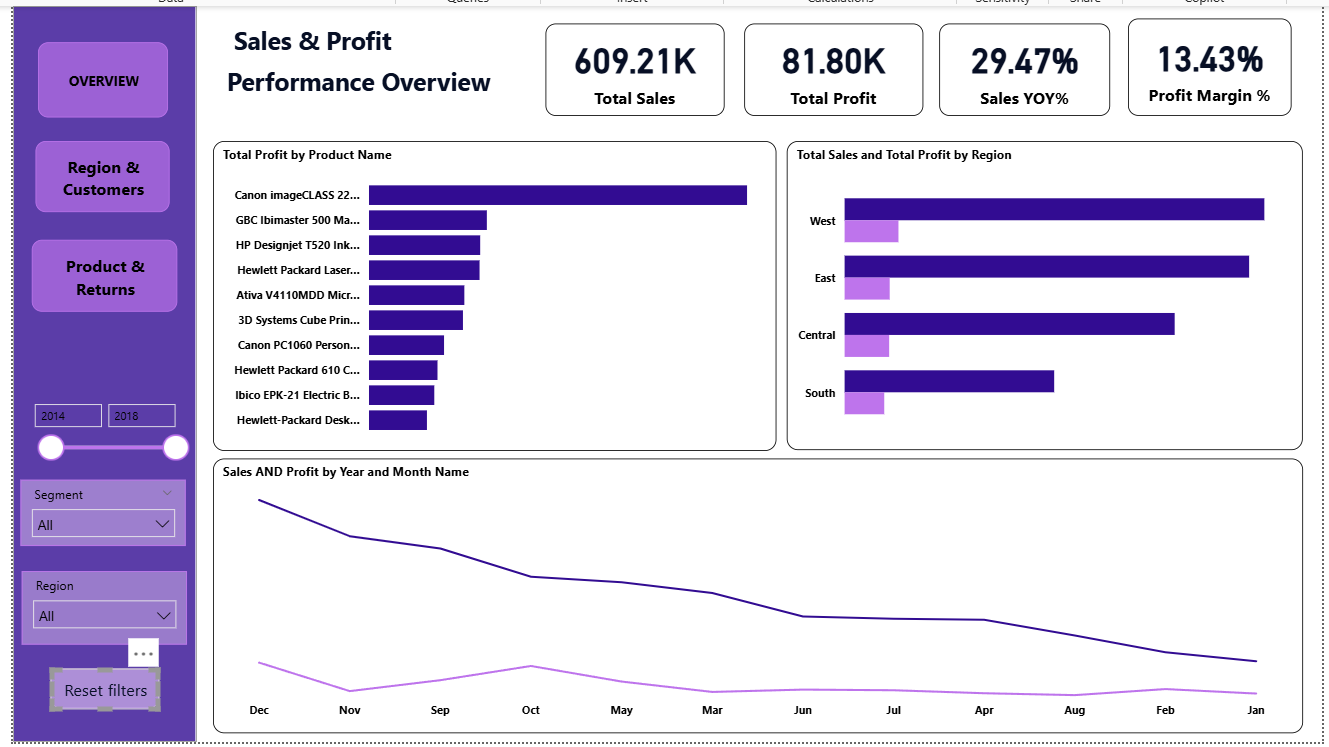

What the dashboard file says about the page in this screenshot:
{"tool":"powerbi","page":{"name":"Overview","canvas":[1280,720],"ordinal":0},"visuals":[{"type":"card","fields":{"Values":["Fact_sales.Total Sales"]},"box":[520.9,17.1,174.9,90.5],"z":0,"group":"g2"},{"type":"lineChart","title":"Sales AND  Profit by Year and Month Name","fields":{"Y":["Fact_sales.Total Sales","Fact_sales.Total Profit"],"Category":["Dim_Date.Year","Dim_Date.Month Name"]},"box":[195.7,442.7,1066.3,269],"z":0},{"type":"card","fields":{"Values":["Fact_sales.Total Profit"]},"box":[715.3,17.1,174.9,90.5],"z":1000,"group":"g2"},{"type":"clusteredBarChart","fields":{"Category":["Fact_sales.Region"],"Y":["Fact_sales.Total Sales","Fact_sales.Total Profit"]},"box":[756.9,132.1,505,302],"z":1000},{"type":"card","fields":{"Values":["Fact_sales.Profit Margin %"]},"box":[1090.7,12.2,160.2,95.4],"z":2000,"group":"g2"},{"type":"clusteredBarChart","fields":{"Category":["Fact_sales.Product Name"],"Y":["Fact_sales.Total Profit"]},"box":[195.7,132.1,551.5,303.3],"z":2000},{"type":"textbox","box":[204.2,12.2,289.8,95.4],"z":3000},{"type":"card","fields":{"Values":["Fact_sales.Sales YOY%"]},"box":[906.1,17.1,167.5,90.5],"z":3000,"group":"g2"},{"type":"group","id":"g1","title":"Group 1","box":[0,0,179.9,720.4],"z":4000},{"type":"group","id":"g2","title":"Group 2","box":[520.9,12.2,730,95.4],"z":5000},{"type":"group","id":"g3","title":"Group 4","box":[0,0,179.9,720.4],"z":5001,"group":"g4"},{"type":"shape","box":[0,0,178.4,720.4],"z":7000,"group":"g3"},{"type":"slicer","fields":{"Values":["Fact_sales.Region"]},"box":[8.3,552.3,161.9,72],"z":8000,"group":"g3"},{"type":"slicer","fields":{"Values":["Fact_sales.Segment"]},"box":[6.9,463.7,161.9,65.1],"z":9000,"group":"g3"},{"type":"slicer","fields":{"Values":["Dim_Date.Year"]},"box":[8.3,379.2,171.6,84.4],"z":10000,"group":"g3"},{"type":"actionButton","box":[24.9,36,127.3,73.4],"z":11000,"group":"g3"},{"type":"actionButton","box":[22.1,131.5,131.5,69.2],"z":12000,"group":"g3"},{"type":"actionButton","box":[18,228.4,142.6,70.6],"z":13000,"group":"g3"},{"type":"actionButton","box":[36.1,648.6,106.7,39.6],"z":15000,"group":"g3"},{"type":"group","id":"g4","title":"Group 3","box":[0,0,179.9,720.4],"z":15003,"group":"g1"}]}

Visuals, with their boxes in screenshot pixels (x1, y1, x2, y2):
card - Fact_sales.Total Sales: x1=540 y1=21 x2=719 y2=114
"Sales AND  Profit by Year and Month Name" lineChart: x1=207 y1=457 x2=1299 y2=732
card - Fact_sales.Total Profit: x1=739 y1=21 x2=918 y2=114
clusteredBarChart - Fact_sales.Region x Fact_sales.Total Sales: x1=782 y1=139 x2=1299 y2=448
card - Fact_sales.Profit Margin %: x1=1124 y1=16 x2=1288 y2=114
clusteredBarChart - Fact_sales.Product Name x Fact_sales.Total Profit: x1=207 y1=139 x2=772 y2=449
textbox: x1=216 y1=16 x2=513 y2=114
card - Fact_sales.Sales YOY%: x1=935 y1=21 x2=1106 y2=114
"Group 1" group: x1=7 y1=3 x2=191 y2=741
"Group 2" group: x1=540 y1=16 x2=1288 y2=114
"Group 4" group: x1=7 y1=3 x2=191 y2=741
shape: x1=7 y1=3 x2=190 y2=741
slicer - Fact_sales.Region: x1=15 y1=569 x2=181 y2=643
slicer - Fact_sales.Segment: x1=14 y1=478 x2=180 y2=545
slicer - Dim_Date.Year: x1=15 y1=392 x2=191 y2=478
actionButton: x1=32 y1=40 x2=163 y2=115
actionButton: x1=30 y1=138 x2=164 y2=209
actionButton: x1=25 y1=237 x2=171 y2=310
actionButton: x1=44 y1=668 x2=153 y2=708
"Group 3" group: x1=7 y1=3 x2=191 y2=741
